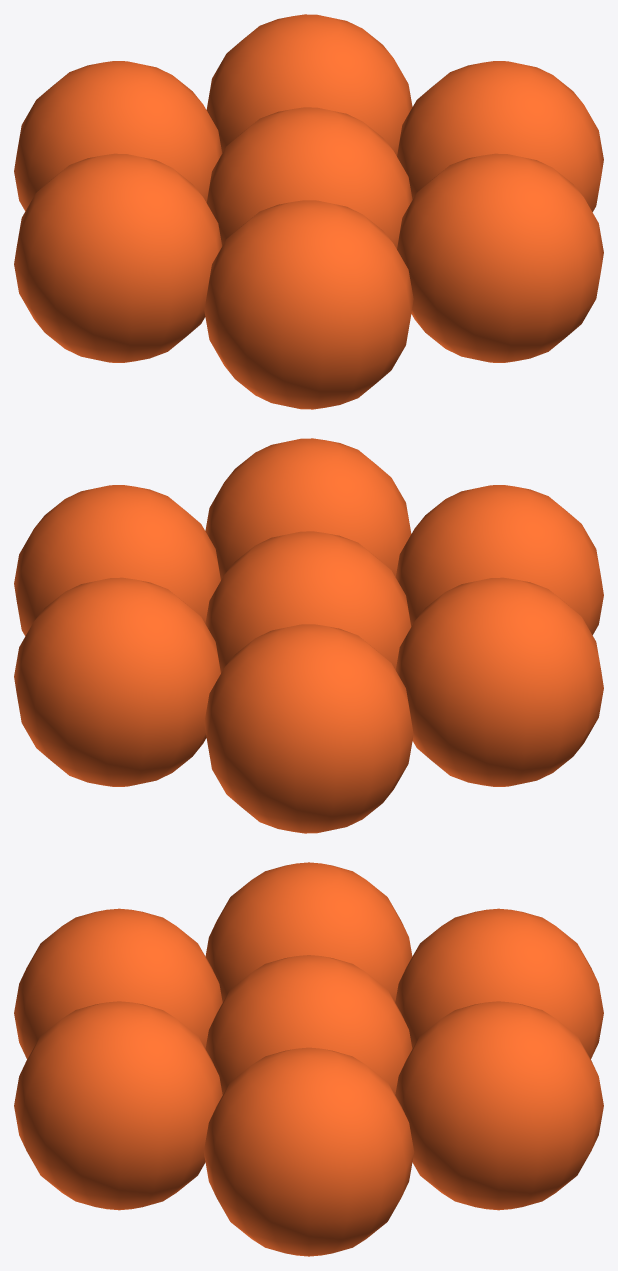
The model's file is ball-layer.glb.
The picture shows the model from 3 angles, top to bottom: view 1: azimuth 30°, elevation 25°; view 2: azimuth 150°, elevation 25°; view 3: azimuth 270°, elevation 25°; orthographic projection.
Parts seen in each view (by area): view 1: Sphere; view 2: Sphere; view 3: Sphere.
Part boxes in pixels (x1,y1,x2,y2): Sphere: (14,14,603,409); Sphere: (14,438,603,833); Sphere: (14,862,603,1256).
Size of the model in its own units: 0.0533 by 0.0173 by 0.0485.
